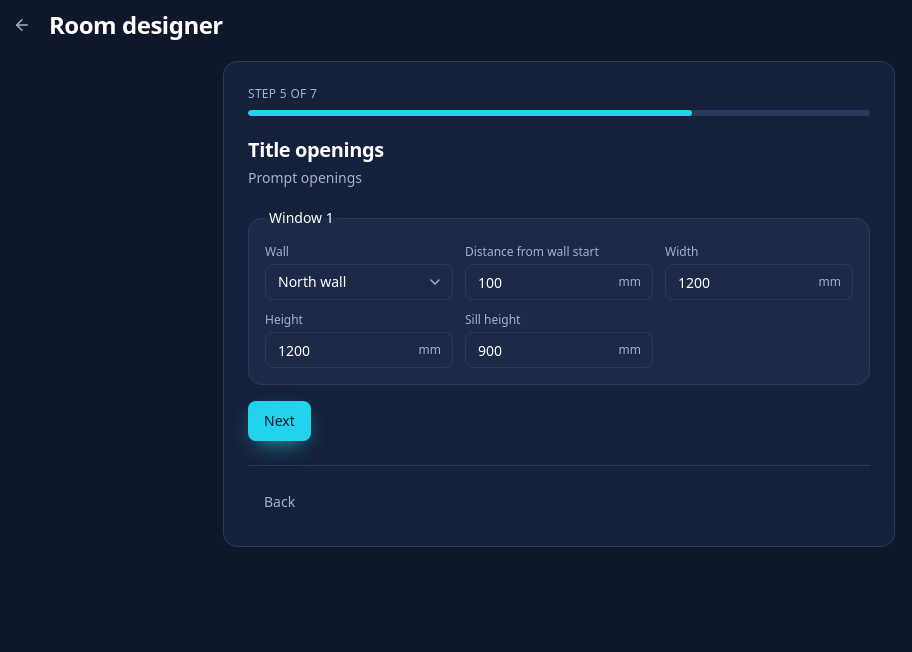
Test: Room designer: wizard › explains per opening (in the user language) when a window is moved to a wall it does not fit, and blocks Next without calling the server
This screenshot has width=912, height=652.
Later steps or results of the test are not shown.
Expected: the text "Window 1" is shown, [265,208,338,228]
Step 1. Select "East wall" in the dropdown labelled "Wall" → coordinates (359, 282), box [265,264,453,300]
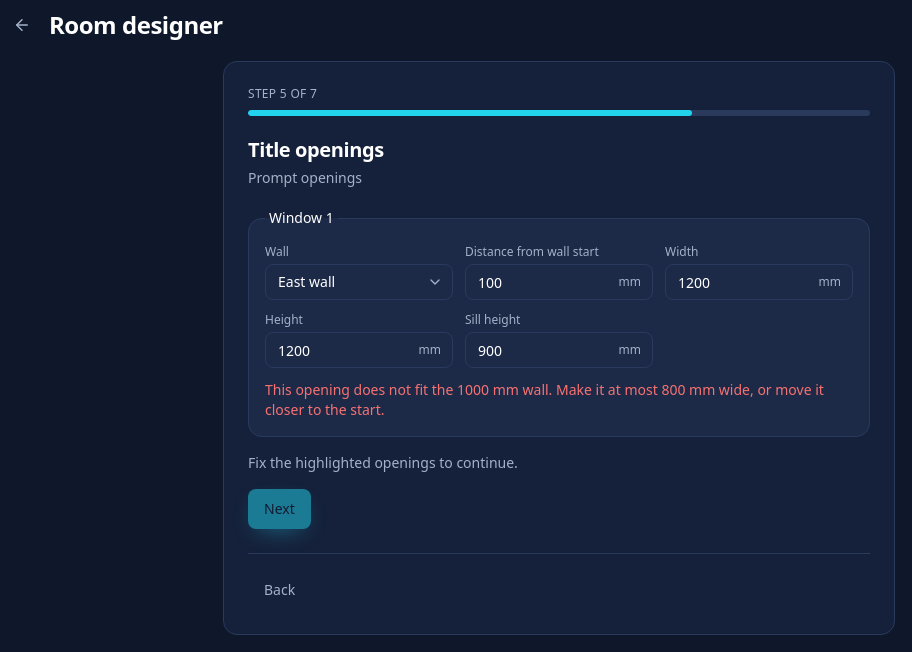
Expected: the message shows "does not fit the 1000 mm wall", [265,380,824,419]
Expected: the button "Next" is disabled, [248,489,311,529]
